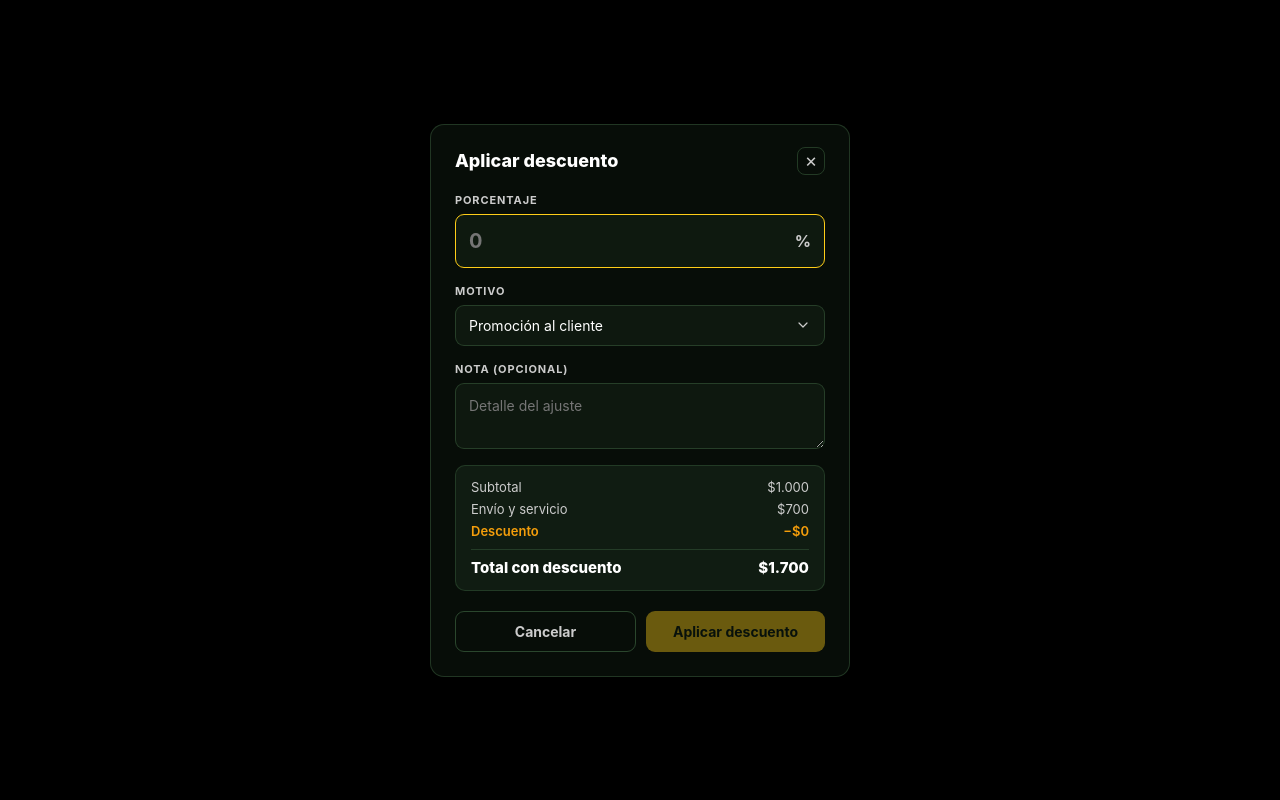
Scenario: mensajes de error por código de estado › 400 explica el rango del porcentaje, no "Validation failed"
Type "10" into the number field labelled "Porcentaje" at (640, 240), box [455,214,825,268]
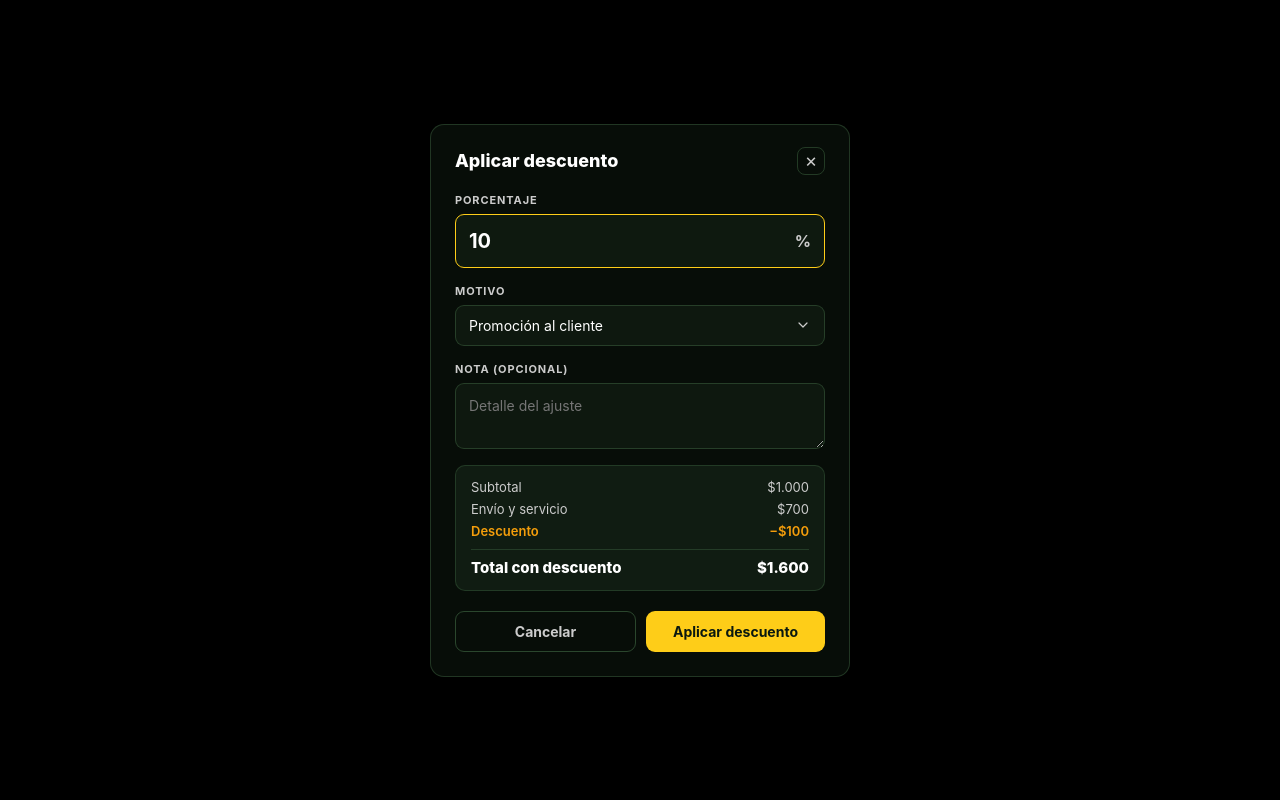
Click the button "Aplicar descuento" at (736, 631), box [646,610,825,652]
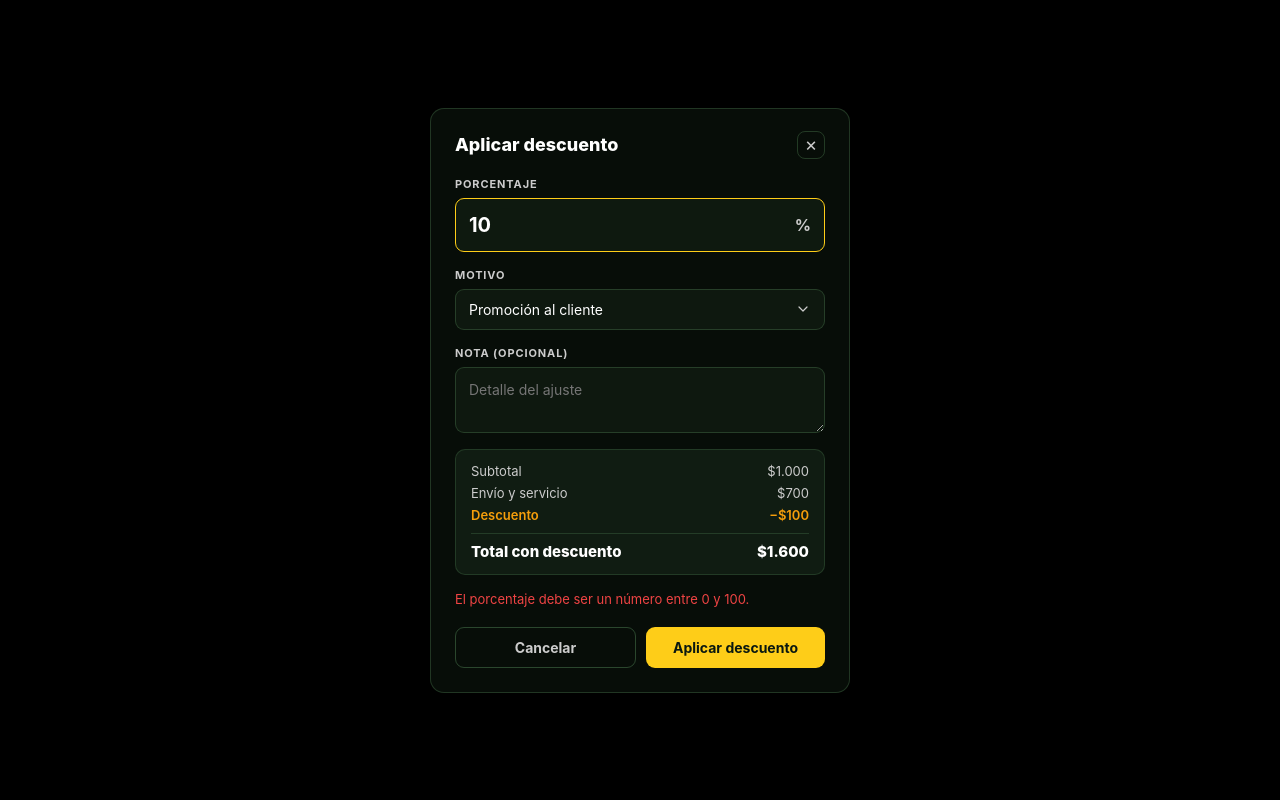
Expected: the message reads "El porcentaje debe ser un número entre 0 y 100.", [455,590,749,606]
